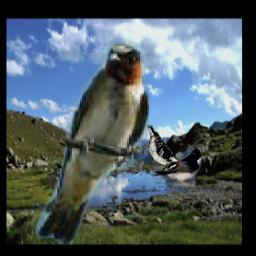Swallow: (33, 38, 150, 245), (152, 147, 202, 186)
Woodpecker: (135, 125, 180, 171)
